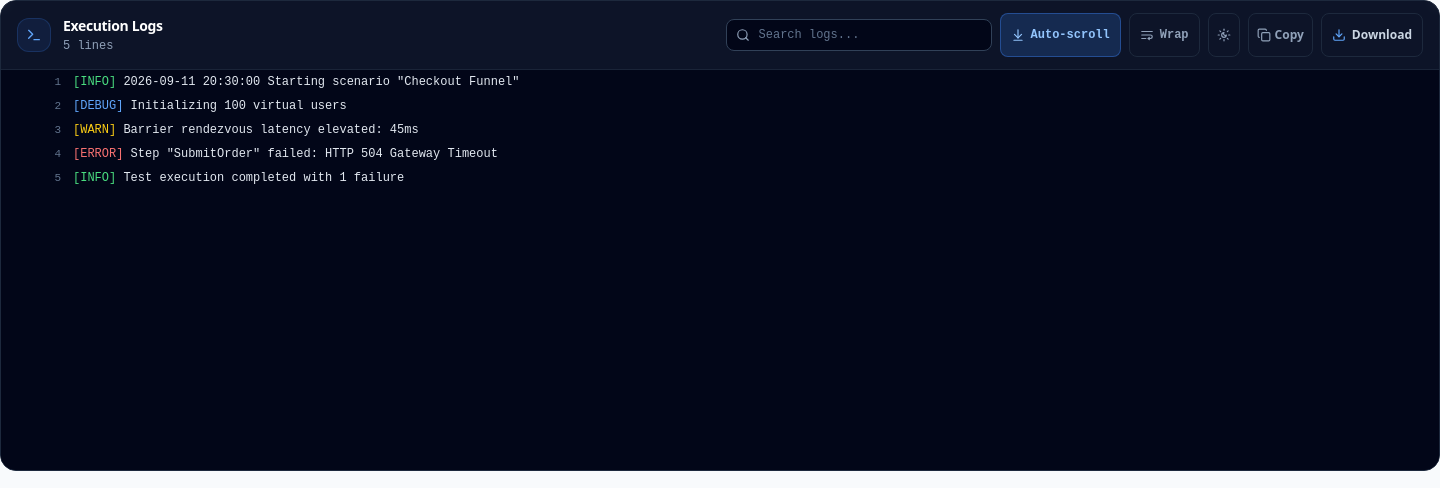
Test case: VirtualizedLogViewer › supports searching across logs and navigating matches
Type "INFO" into the field with placeholder "Search logs..." at (858, 35), box 726,19 -> 992,51
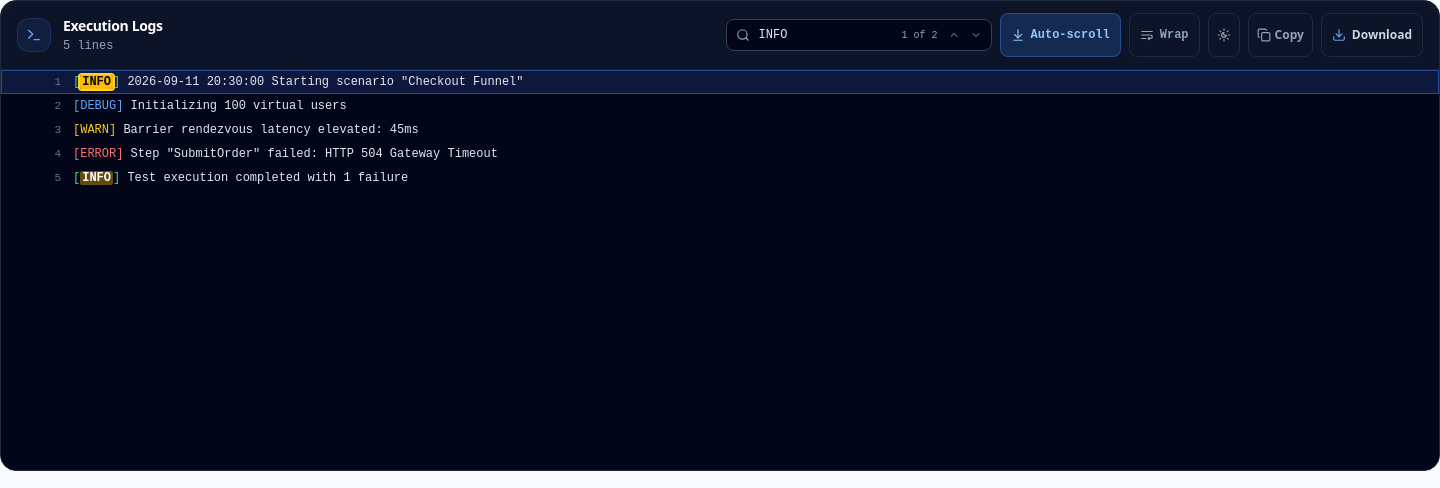
Now the text "1 of 2" is shown, box 902,30 -> 938,40
# Next match button
Click the button named "next match" at (976, 35), box 966,25 -> 986,45
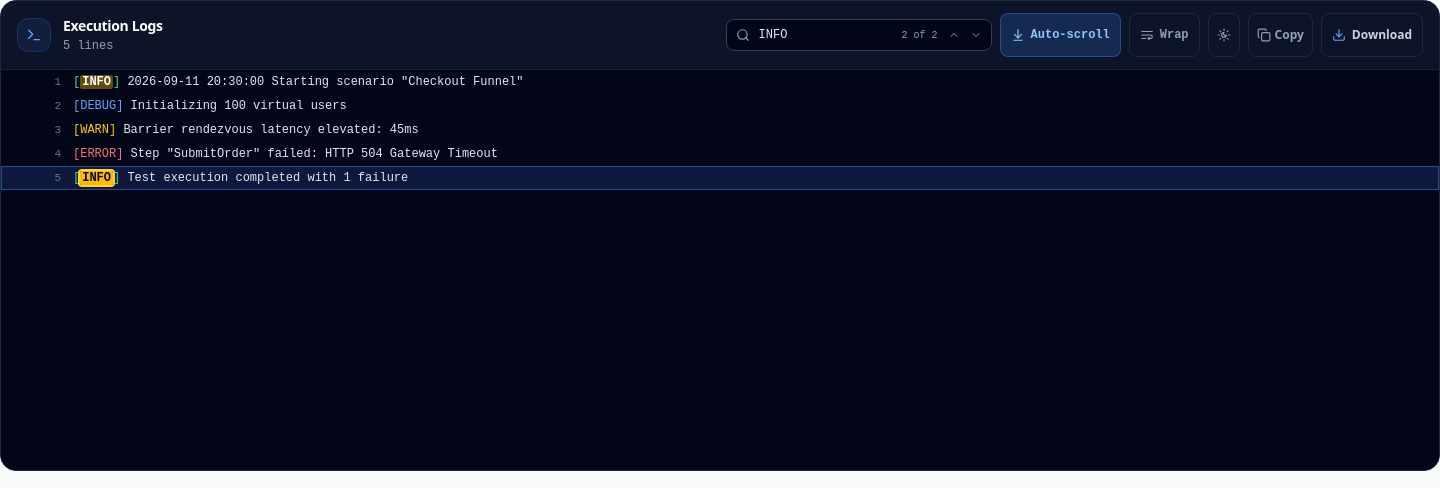
Now the text "2 of 2" is shown, box 902,30 -> 938,40
# Prev match button
Click the button named "previous match" at (954, 35), box 944,25 -> 964,45
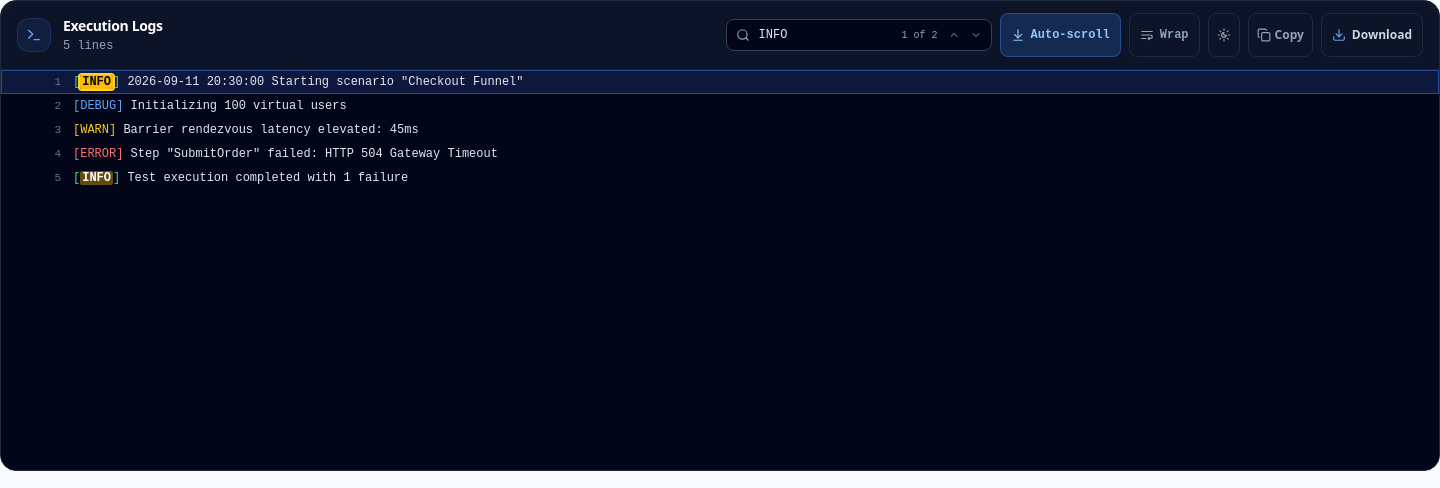
Now the text "1 of 2" is shown, box 902,30 -> 938,40
